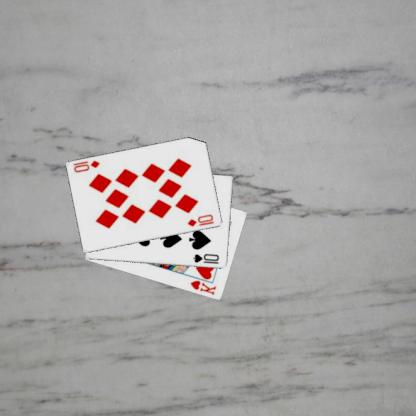10D: (72, 157, 103, 174), (186, 212, 218, 228)
10S: (192, 251, 223, 266)
KH: (189, 278, 219, 296)
